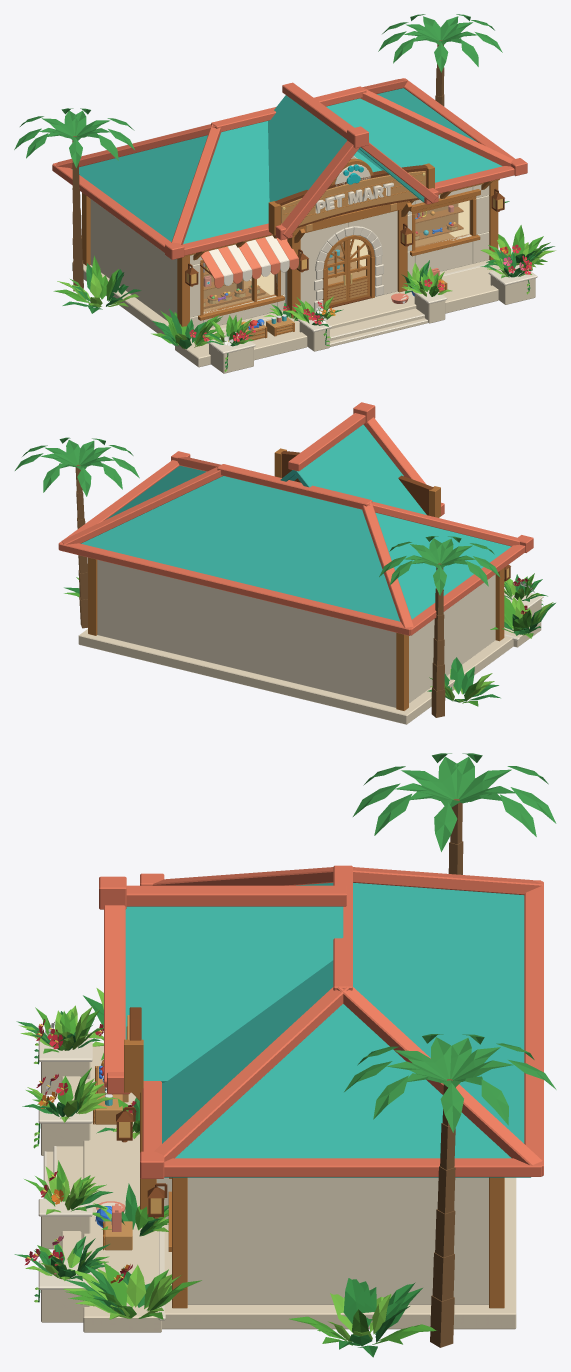
The model's file is PetMart.fbx.
3 renders of one model, top to bottom at view 1: azimuth 30°, elevation 25°; view 2: azimuth 150°, elevation 25°; view 3: azimuth 270°, elevation 25°, orthographic. The views are drawn at different scales.
Parts seen in each view (by area): view 1: Roof_Main, Roof_CoralTrim, Planters, Roof_FrontGable, Walls_SidesAndBack, Timber_Frame, Foundation_Plinth, Walls_Front, Sign_Board, Palm_BackLeft, Awning_Striped, Walls_EntranceBay (+23 smaller); view 2: Roof_Main, Walls_SidesAndBack, Roof_CoralTrim, Foundation_Plinth, Roof_FrontGable, Palm_BackLeft, Palm_BackRight, Timber_Frame, Sign_Board, Plant_BackLeft, Plant_CornerLeft, Plant_PlanterLeft; view 3: Roof_Main, Roof_CoralTrim, Walls_SidesAndBack, Roof_FrontGable, Foundation_Plinth, Palm_BackRight, Planters, Palm_BackLeft, Timber_Frame, Plant_BackRight, Plant_CornerRight, Plant_PlanterLeft (+7 smaller).
Part boxes in pixels (x1,y1,x2,y2): Roof_Main: (72,88,502,244); Roof_CoralTrim: (52,78,527,259); Planters: (207,265,537,373); Roof_FrontGable: (268,95,424,202); Walls_SidesAndBack: (90,199,177,320); Timber_Frame: (82,179,499,326); Foundation_Plinth: (72,260,500,367); Walls_Front: (190,184,489,329); Sign_Board: (268,158,434,235); Palm_BackLeft: (14,108,134,291); Awning_Striped: (200,235,298,288); Walls_EntranceBay: (285,156,397,311); Roof_Main: (81,465,511,621); Walls_SidesAndBack: (97,560,495,707); Roof_CoralTrim: (58,402,533,635); Foundation_Plinth: (78,622,541,724); Roof_FrontGable: (280,424,426,514); Palm_BackLeft: (379,536,500,717); Palm_BackRight: (15,437,139,628); Timber_Frame: (88,557,504,710); Sign_Board: (274,448,440,517); Plant_BackLeft: (427,657,500,706); Plant_CornerLeft: (490,596,555,638); Plant_PlanterLeft: (504,573,547,601); Roof_Main: (162,882,530,1177); Roof_CoralTrim: (99,865,543,1178); Walls_SidesAndBack: (187,1177,488,1304); Roof_FrontGable: (125,906,343,1082); Foundation_Plinth: (83,1046,516,1332); Palm_BackRight: (344,1034,556,1347); Planters: (38,1032,92,1322); Palm_BackLeft: (353,753,556,874); Timber_Frame: (132,1092,504,1308); Plant_BackRight: (289,1278,436,1357); Plant_CornerRight: (63,1262,201,1319); Plant_PlanterLeft: (16,1005,103,1053).
Bounding box in the file's own units: 2309 × 886 × 1379.
